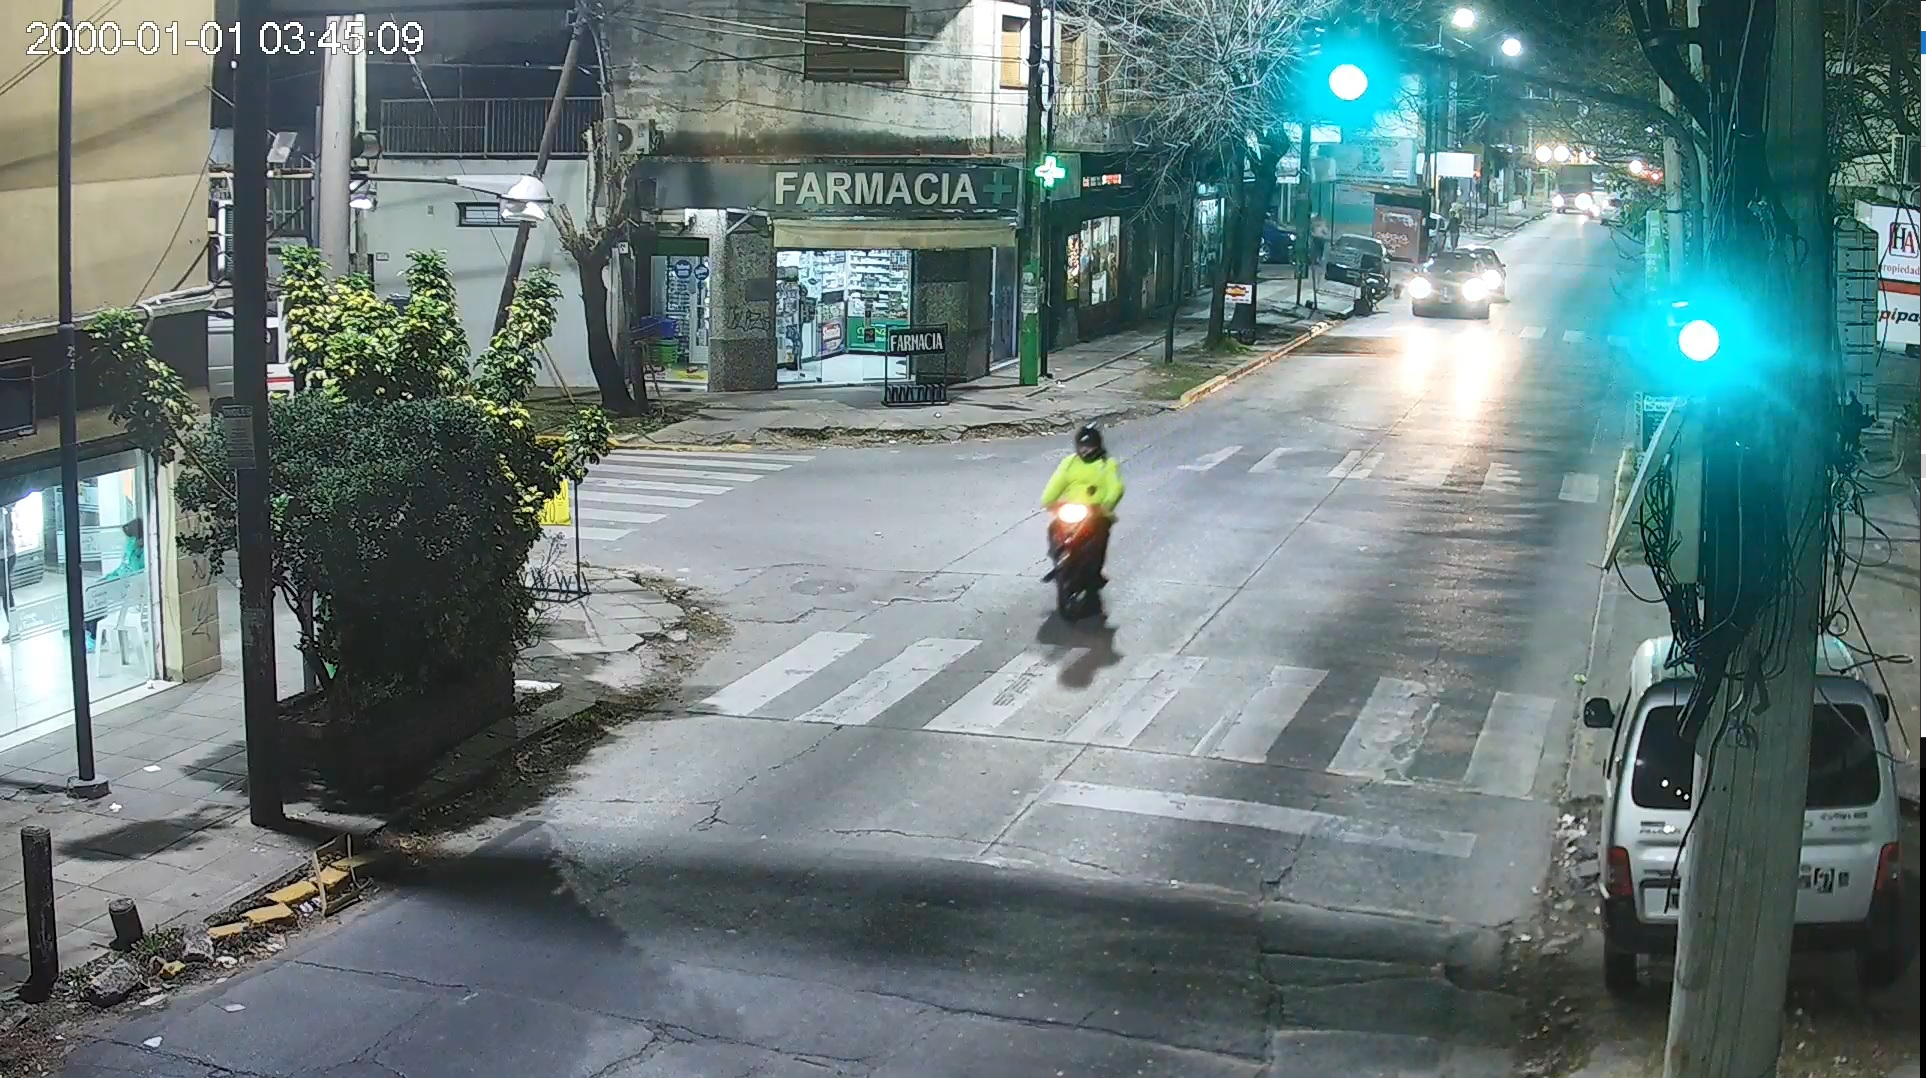car: (1568, 616, 1926, 1011), (1407, 261, 1497, 336)
motorcycle: (1015, 395, 1144, 638)
